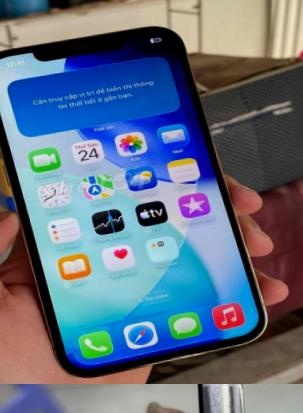scratch: (99, 175, 298, 413)
